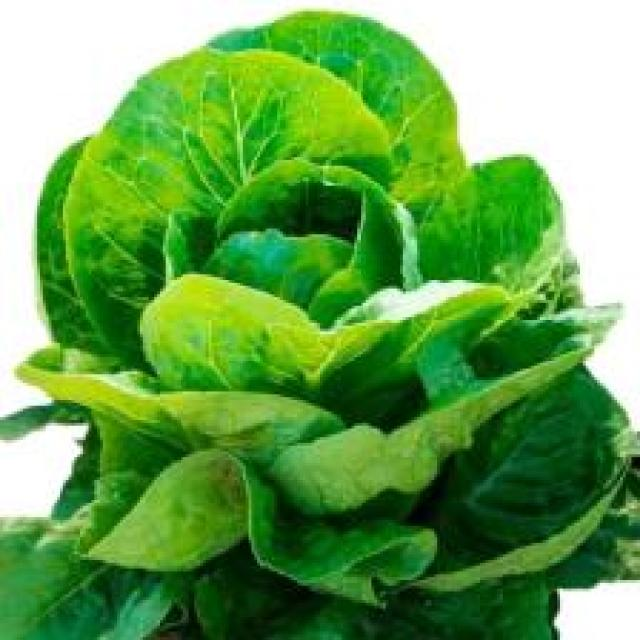Lettuce: (40, 14, 640, 640)
